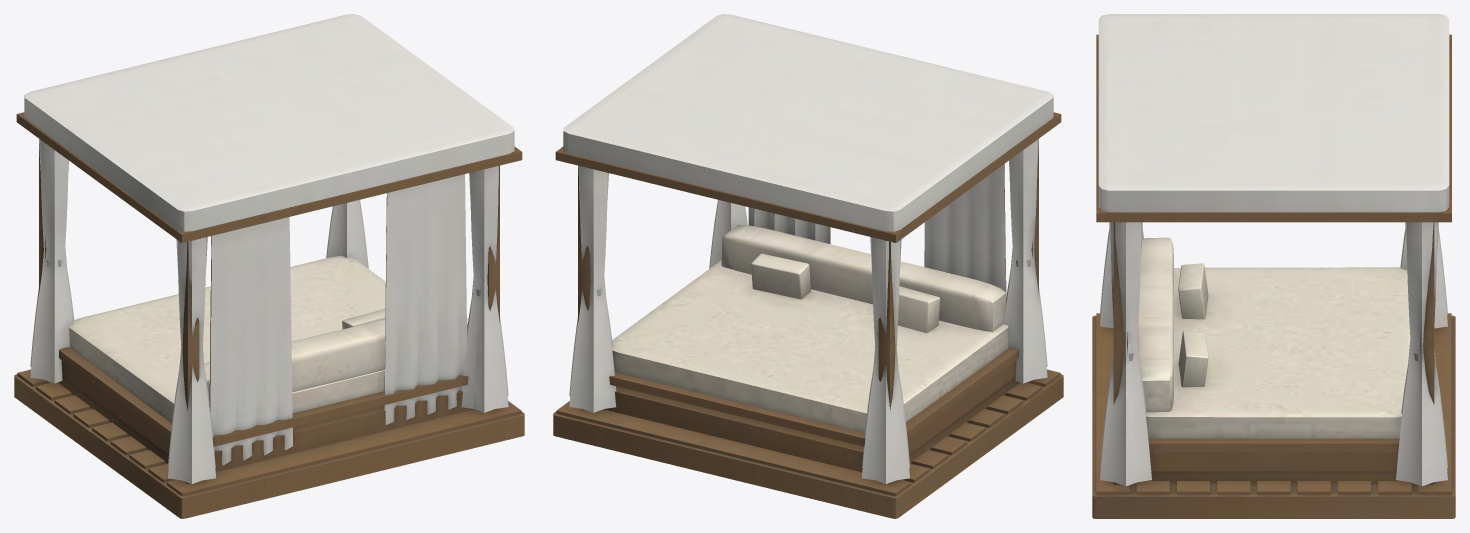
Rendered from daybed.glb.
The picture shows the model from 3 angles, left to right: view 1: azimuth 30°, elevation 25°; view 2: azimuth 150°, elevation 25°; view 3: azimuth 270°, elevation 25°; orthographic projection. The views are drawn at different scales.
Parts seen in each view (by area): view 1: daybed; view 2: daybed; view 3: daybed.
Boxes of the visible parts, <box> form: daybed: <box>14,14,524,518</box>; daybed: <box>553,14,1063,518</box>; daybed: <box>1092,14,1455,518</box>.
Size of the model in its own units: 3.3 by 2.78 by 2.8.
1 material, 1 textured.
